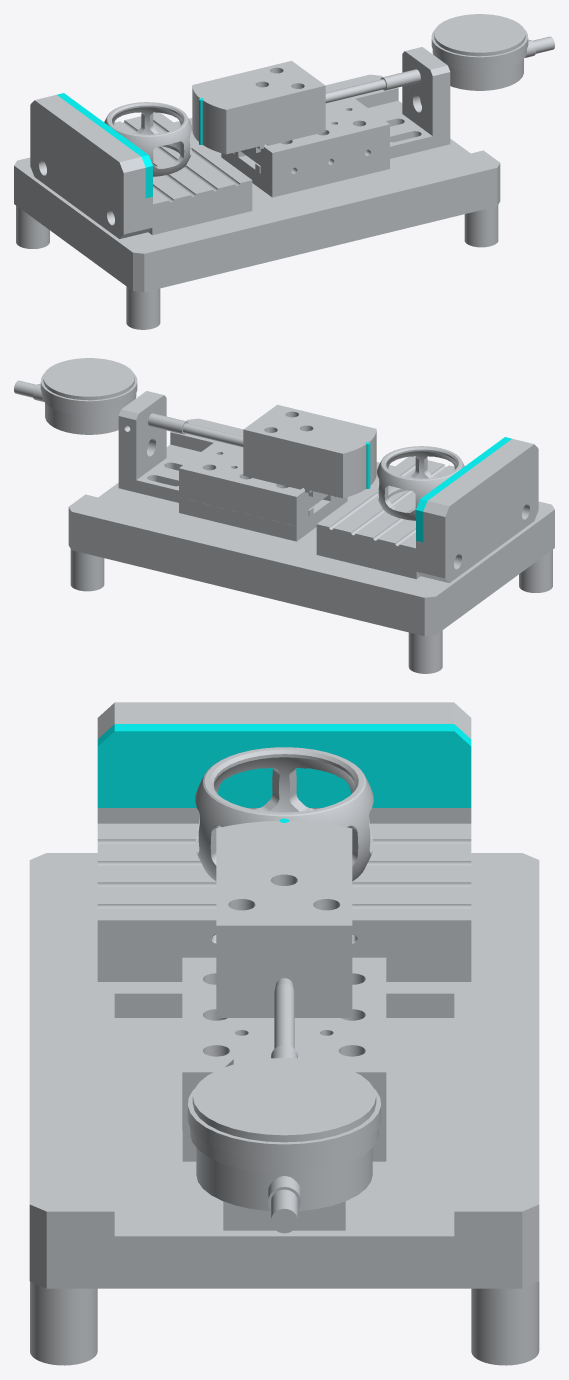
The model's file is Outer_Dia.glb.
3 renders of one model, top to bottom at view 1: azimuth 30°, elevation 25°; view 2: azimuth 150°, elevation 25°; view 3: azimuth 270°, elevation 25°, orthographic. The views are drawn at different scales.
Visible parts, largest first — view 1: Outer_Dia.014, Action 1, Outer_Dia, Outer_Dia.015, Outer_Dia.005, Outer_Dia.004, BJ 79, Outer_Dia.008, Outer_Dia.011, Outer_Dia.012, Outer_Dia.010, Outer_Dia.001; view 2: Outer_Dia.014, Action 1, Outer_Dia, Outer_Dia.015, Outer_Dia.005, Outer_Dia.004, BJ 79, Outer_Dia.008, Outer_Dia.010, Outer_Dia.013, Outer_Dia.011, Outer_Dia.001; view 3: Outer_Dia.014, Action 1, Outer_Dia.015, Outer_Dia.005, Outer_Dia.001, Outer_Dia, BJ 79, Outer_Dia.013, Outer_Dia.012, Outer_Dia.004.
Boxes of the visible parts, x1,y1,x2,y2 form: Outer_Dia.014: [14, 74, 500, 292]; Action 1: [192, 60, 389, 182]; Outer_Dia: [30, 95, 152, 238]; Outer_Dia.015: [114, 112, 252, 235]; Outer_Dia.005: [380, 14, 554, 90]; Outer_Dia.004: [383, 47, 450, 158]; BJ 79: [104, 102, 191, 176]; Outer_Dia.008: [221, 151, 389, 197]; Outer_Dia.011: [126, 286, 160, 329]; Outer_Dia.012: [464, 205, 498, 247]; Outer_Dia.010: [16, 206, 49, 248]; Outer_Dia.001: [57, 93, 152, 198]; Outer_Dia.014: [68, 418, 554, 636]; Action 1: [179, 404, 376, 525]; Outer_Dia: [416, 439, 538, 582]; Outer_Dia.015: [316, 456, 454, 579]; Outer_Dia.005: [14, 358, 188, 434]; Outer_Dia.004: [118, 391, 185, 502]; BJ 79: [377, 446, 464, 520]; Outer_Dia.008: [179, 495, 347, 541]; Outer_Dia.010: [408, 630, 442, 673]; Outer_Dia.013: [70, 549, 104, 591]; Outer_Dia.011: [519, 549, 552, 592]; Outer_Dia.001: [416, 437, 511, 542]; Outer_Dia.014: [29, 853, 539, 1288]; Action 1: [182, 818, 386, 1130]; Outer_Dia.015: [97, 823, 471, 981]; Outer_Dia.005: [187, 1045, 381, 1233]; Outer_Dia.001: [97, 724, 471, 807]; Outer_Dia: [97, 702, 471, 823]; BJ 79: [195, 747, 373, 881]; Outer_Dia.013: [471, 1281, 539, 1365]; Outer_Dia.012: [30, 1281, 97, 1365]; Outer_Dia.004: [223, 1059, 345, 1230].
Size of the model in its own units: 0.3252 by 0.101 by 0.15.
